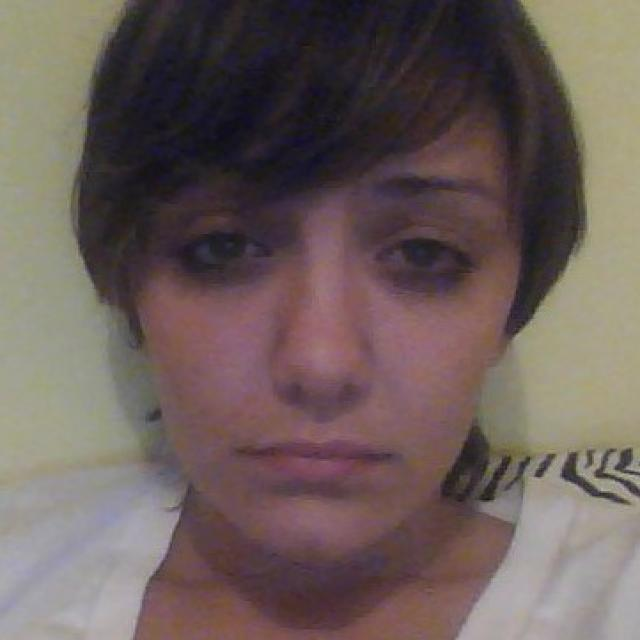Depress: (126, 93, 525, 566)
